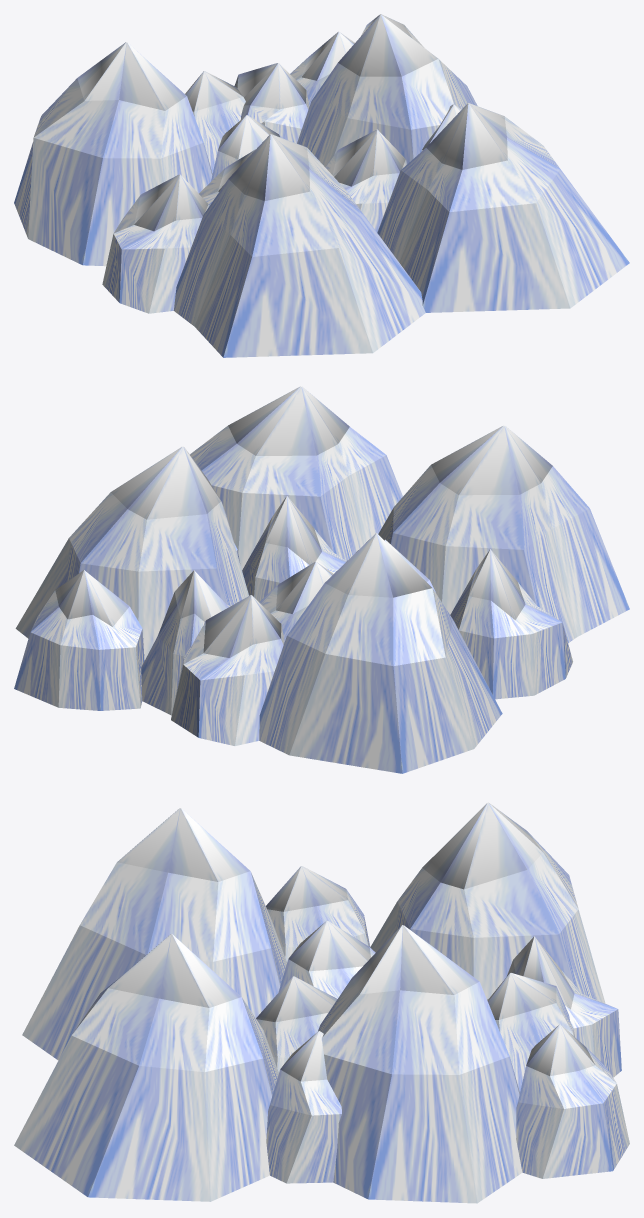
File: Poly_World_Map_Mountain_01_B_Snow_Multiple.obj
3 views of the same model, one above another, from view 1: azimuth 30°, elevation 25°; view 2: azimuth 150°, elevation 25°; view 3: azimuth 270°, elevation 25° (orthographic). The views are drawn at different scales.
Visible parts, largest first — view 1: Grid.001, Grid.002, Grid.003, Grid.004; view 2: Grid.003, Grid.001, Grid.004, Grid.002; view 3: Grid.002, Grid.004, Grid.001, Grid.003.
Part boxes in pixels (x1=…): Grid.001: x1=102, y1=134, x2=425, y2=357; Grid.002: x1=325, y1=103, x2=629, y2=312; Grid.003: x1=14, y1=42, x2=283, y2=266; Grid.004: x1=234, y1=14, x2=477, y2=166; Grid.003: x1=171, y1=533, x2=502, y2=773; Grid.001: x1=378, y1=425, x2=629, y2=699; Grid.004: x1=14, y1=446, x2=248, y2=715; Grid.002: x1=190, y1=386, x2=402, y2=601; Grid.002: x1=14, y1=934, x2=341, y2=1201; Grid.004: x1=318, y1=925, x2=629, y2=1203; Grid.001: x1=22, y1=808, x2=375, y2=1060; Grid.003: x1=370, y1=802, x2=621, y2=1077.
Size of the model in its own units: 1.71 by 0.6666 by 1.79.
1 material, 1 textured.
